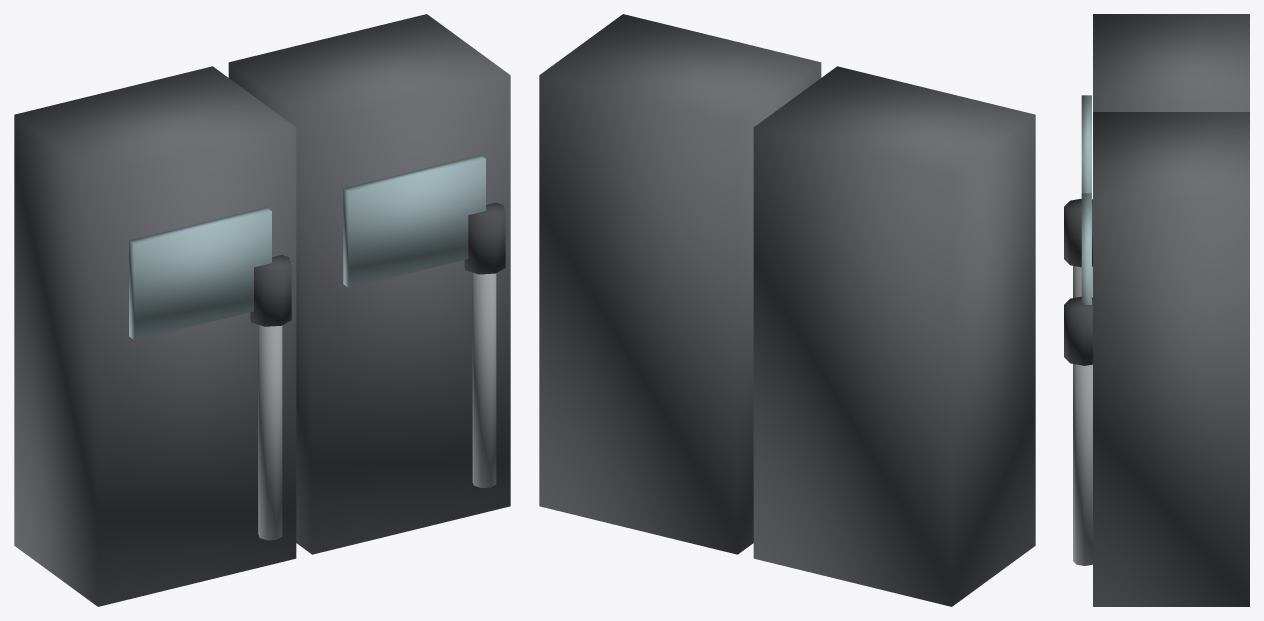
File: karaoke_terminal__cluster.glb
3 renders of one model, left to right at view 1: azimuth 30°, elevation 25°; view 2: azimuth 150°, elevation 25°; view 3: azimuth 270°, elevation 25°, orthographic. The views are drawn at different scales.
Parts seen in each view (by area): view 1: world; view 2: world; view 3: world.
Boxes of the visible parts, <box> form: world: <box>14,14,510,606</box>; world: <box>539,14,1035,606</box>; world: <box>1064,14,1249,606</box>.
Size of the model in its own units: 1.08 by 1.08 by 0.45.
